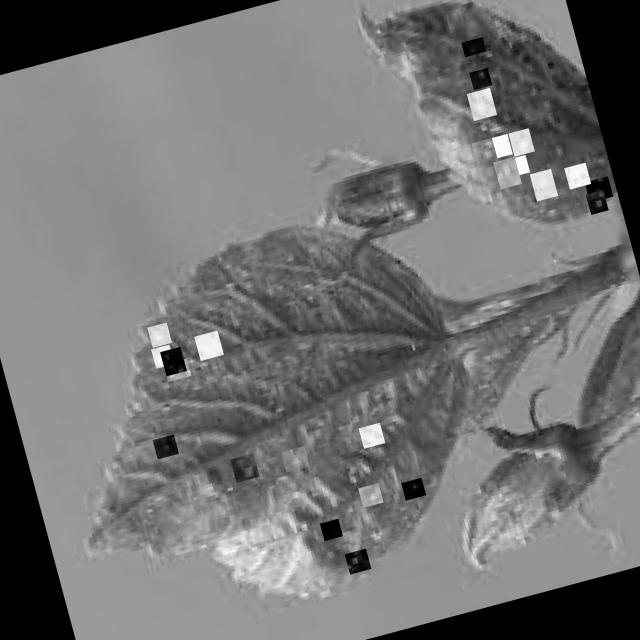aphid: (466, 88, 496, 120), (528, 168, 556, 202), (492, 156, 520, 190), (193, 330, 223, 360), (158, 346, 186, 376), (230, 453, 258, 482), (280, 446, 309, 472), (563, 162, 590, 189), (584, 176, 612, 202), (508, 128, 534, 156), (343, 548, 370, 574), (357, 422, 384, 448), (471, 138, 496, 166), (357, 482, 382, 508), (152, 434, 178, 459), (146, 322, 171, 348), (584, 190, 608, 214), (488, 134, 512, 158), (400, 477, 424, 500), (504, 154, 528, 177), (150, 344, 173, 368), (165, 358, 190, 380), (318, 518, 342, 540), (468, 67, 491, 89), (460, 36, 485, 56)
